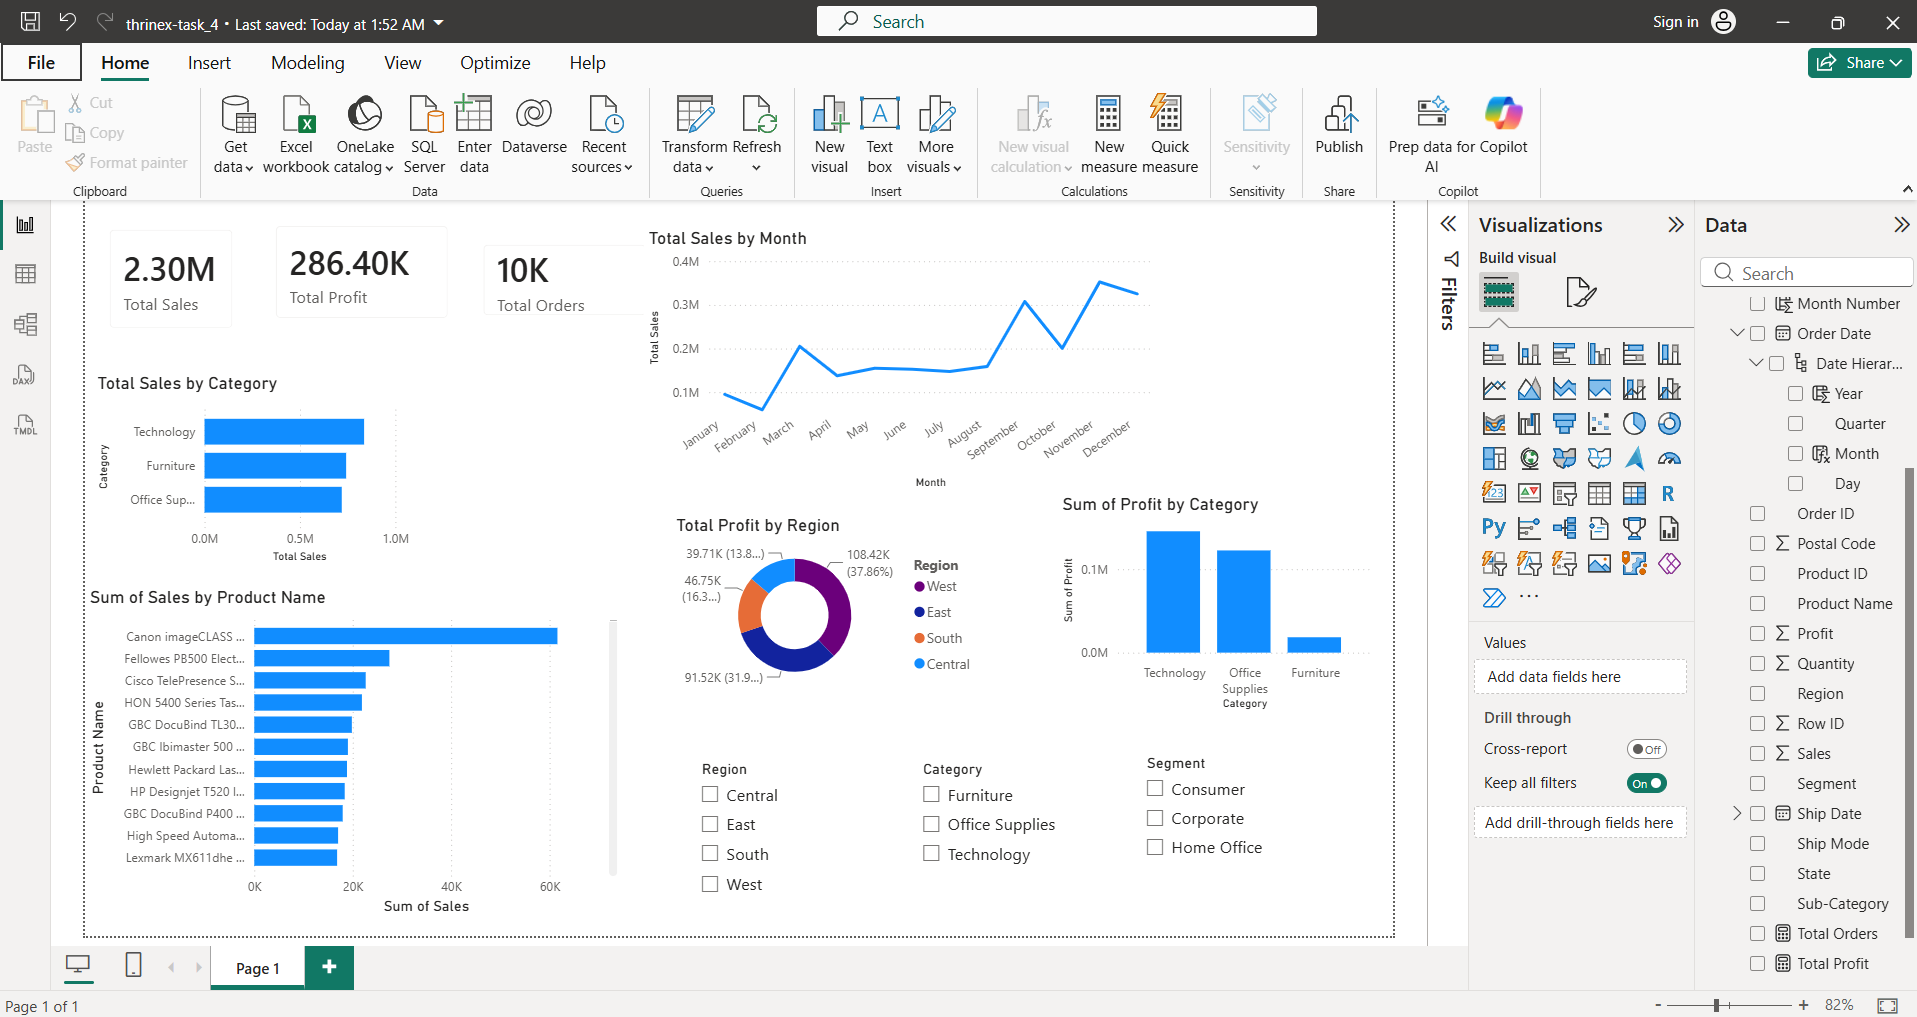

The page's visual inventory and layout, read from the dashboard file:
{"tool":"powerbi","page":{"name":"Page 1","canvas":[1280,720],"ordinal":0},"visuals":[{"type":"cardVisual","fields":{"Data":["Orders.Total Sales","Orders.Total Profit","Orders.Total Orders","Orders.Profit Margin"]},"box":[10,0,600,133.3],"z":0},{"type":"lineChart","fields":{"Category":["Orders.Order Date.Variation.Date Hierarchy.Year","Orders.Order Date.Variation.Date Hierarchy.Quarter","Orders.Order Date.Variation.Date Hierarchy.Month"],"Y":["Orders.Total Sales"]},"box":[0,146.2,718.8,175],"z":1},{"type":"barChart","fields":{"Category":["Orders.Product Name"],"Y":["Orders.Total Sales"]},"box":[0,315,280,152.5],"z":2},{"type":"clusteredColumnChart","fields":{"Category":["Orders.Category"],"Y":["Orders.Total Sales"]},"box":[280,315,343.8,152.5],"z":3},{"type":"pieChart","fields":{"Category":["Orders.Region"],"Y":["Orders.Total Sales"]},"box":[623.8,321.2,185,157.5],"z":4},{"type":"scatterChart","fields":{"X":["Sum(Orders.Sales)"],"Y":["Sum(Orders.Profit)"],"Category":["Orders.Category"]},"box":[822.5,181.2,428.8,337.5],"z":5},{"type":"slicer","fields":{"Values":["Orders.Region"]},"box":[32.5,518.8,170,150],"z":6},{"type":"slicer","fields":{"Values":["Orders.Category"]},"box":[236.2,521.2,170,127.5],"z":7},{"type":"slicer","fields":{"Values":["Orders.Segment"]},"box":[623.8,521.2,170,150],"z":8},{"type":"slicer","fields":{"Values":["Orders.Order Date"]},"box":[452.5,521.2,170,150],"z":9}]}

Visuals, with their boxes on the page's 1280x720 design canvas (x1, y1, x2, y2). These are canvas units, not pixel positions in the 1917x1017 screenshot, which may show the page scaled, cropped or inside an application window:
cardVisual - Orders.Total Sales x Orders.Total Profit: 10, 0, 610, 133
lineChart - Orders.Order Date.Variation.Date Hierarchy.Year x Orders.Order Date.Variation.Date Hierarchy.Quarter: 0, 146, 719, 321
barChart - Orders.Product Name x Orders.Total Sales: 0, 315, 280, 468
clusteredColumnChart - Orders.Category x Orders.Total Sales: 280, 315, 624, 468
pieChart - Orders.Region x Orders.Total Sales: 624, 321, 809, 479
scatterChart - Sum(Orders.Sales) x Sum(Orders.Profit): 822, 181, 1251, 519
slicer - Orders.Region: 32, 519, 202, 669
slicer - Orders.Category: 236, 521, 406, 649
slicer - Orders.Segment: 624, 521, 794, 671
slicer - Orders.Order Date: 452, 521, 622, 671
